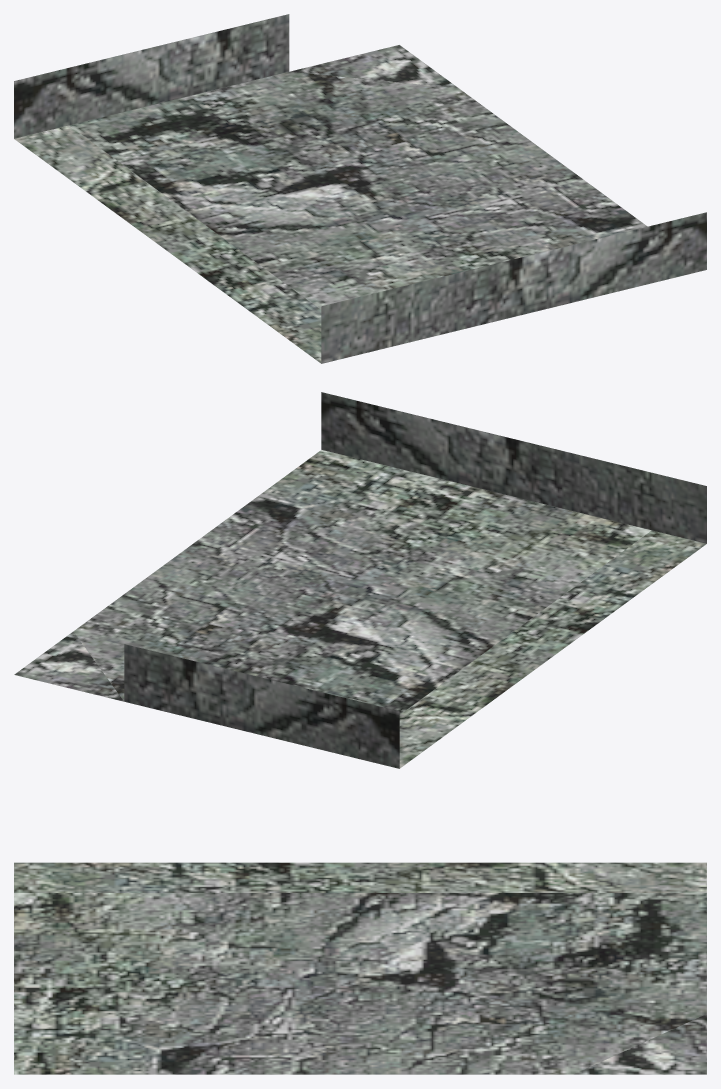
File: R3205_DMSPRITEDEF.obj
3 renders of one model, top to bottom at view 1: azimuth 30°, elevation 25°; view 2: azimuth 150°, elevation 25°; view 3: azimuth 270°, elevation 25°, orthographic. The views are drawn at different scales.
Bounding box in the file's own units: 168 × 24 × 232.
1 material, 1 textured.
